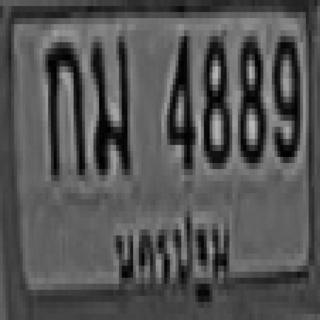A01: (42, 36, 82, 175)
A33: (89, 30, 129, 169)
N04: (164, 30, 193, 163)
N08: (201, 30, 229, 163), (238, 30, 263, 163)
N09: (272, 30, 297, 157)
P28: (107, 200, 242, 298)
